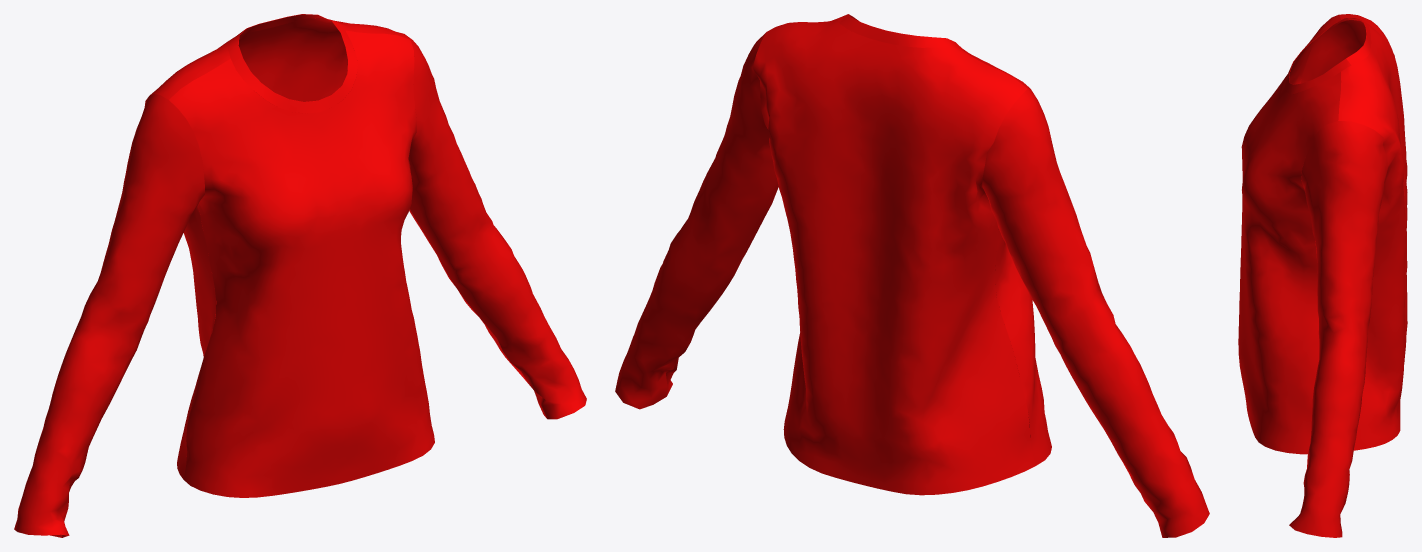
The model's file is asset.gltf.
3 views of the same model, side by side, from view 1: azimuth 30°, elevation 25°; view 2: azimuth 150°, elevation 25°; view 3: azimuth 270°, elevation 25° (orthographic). The views are drawn at different scales.
Parts seen in each view (by area): view 1: Cloth; view 2: Cloth; view 3: Cloth.
Part boxes in pixels (bbox=[...]): Cloth: bbox=[14, 14, 586, 537]; Cloth: bbox=[615, 14, 1209, 537]; Cloth: bbox=[1238, 14, 1407, 537].
Size of the model in its own units: 0.832 by 0.6197 by 0.242.
1 material, 1 textured.
